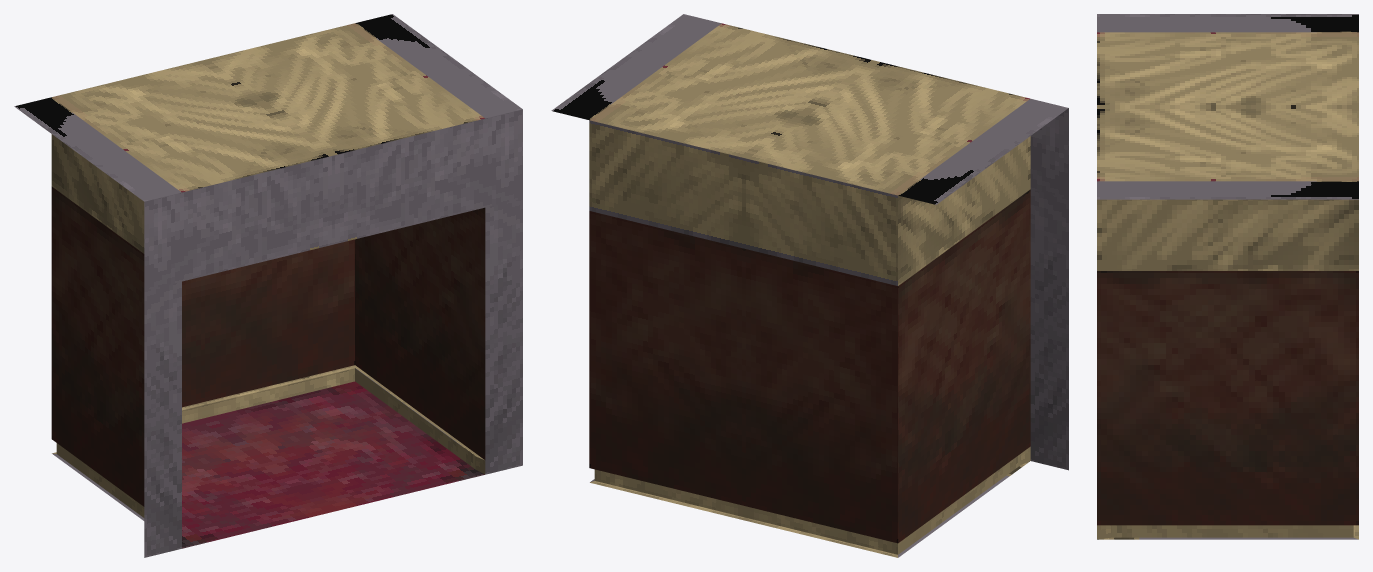
The model's file is elevator.glb.
3 views of the same model, side by side, from view 1: azimuth 30°, elevation 25°; view 2: azimuth 150°, elevation 25°; view 3: azimuth 270°, elevation 25° (orthographic).
Visible parts, largest first — view 1: Cube; view 2: Cube; view 3: Cube.
Part boxes in pixels (left/top/right/bottom): Cube: left=14, top=14, right=522, bottom=557; Cube: left=551, top=14, right=1068, bottom=557; Cube: left=1097, top=14, right=1358, bottom=539.
Bounding box in the file's own units: 5.04 × 4.53 × 3.
1 material, 1 textured.
